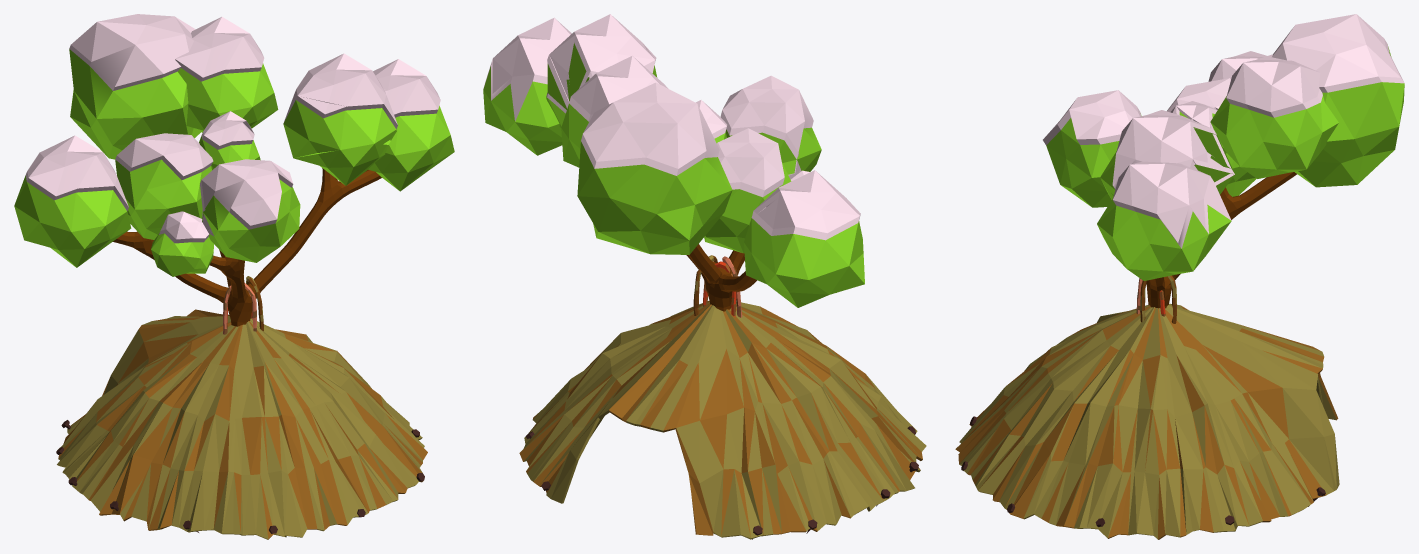
File: snow_people_house_09.fbx
3 views of the same model, side by side, from view 1: azimuth 30°, elevation 25°; view 2: azimuth 150°, elevation 25°; view 3: azimuth 270°, elevation 25° (orthographic). The views are drawn at different scales.
Parts seen in each view (by area): view 1: Icosphere.002; view 2: Icosphere.002; view 3: Icosphere.002.
Boxes of the visible parts, x1,y1,x2,y2 form: Icosphere.002: [14, 14, 454, 539]; Icosphere.002: [483, 14, 926, 539]; Icosphere.002: [955, 14, 1404, 539].
Bounding box in the file's own units: 1427 × 1408 × 1353.
